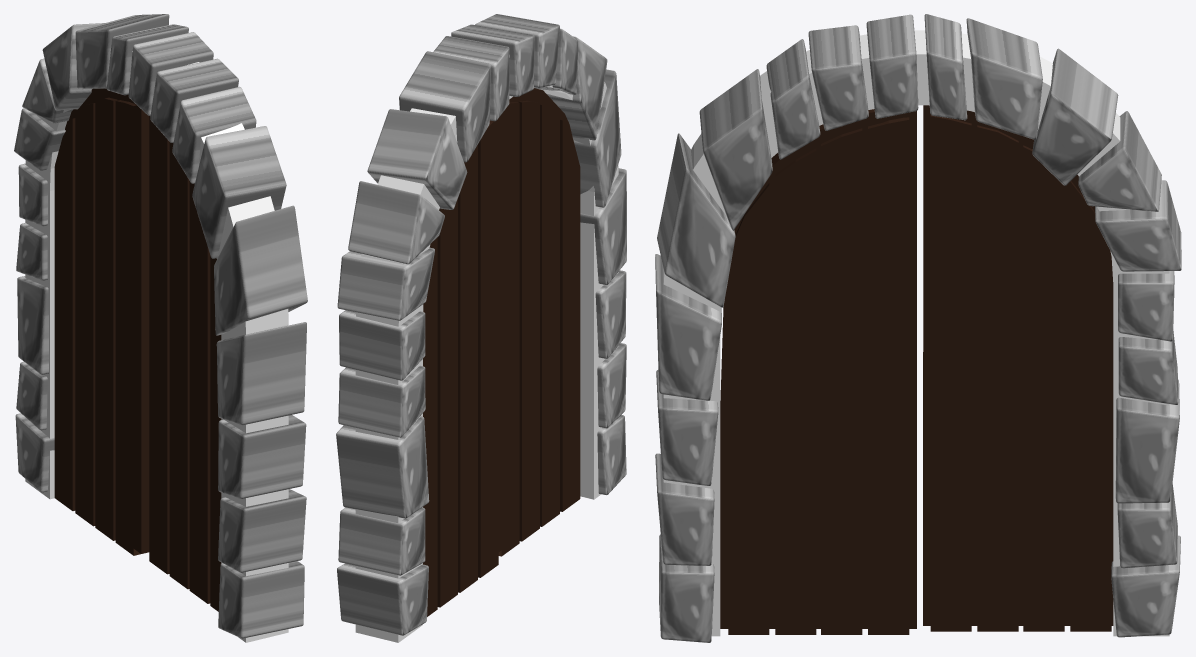
The model's file is Porta fia da puta com animação.glb.
3 views of the same model, side by side, from view 1: azimuth 30°, elevation 25°; view 2: azimuth 150°, elevation 25°; view 3: azimuth 270°, elevation 25° (orthographic). The views are drawn at different scales.
Visible parts, largest first — view 1: Plano, Cubo.001, Cubo.002, Cubo; view 2: Plano, Cubo.002, Cubo.001, Cubo; view 3: Plano, Cubo.002, Cubo.001, Cubo.
Part boxes in pixels (bbox=[...]): Plano: bbox=[14, 14, 307, 638]; Cubo.001: bbox=[54, 88, 149, 555]; Cubo.002: bbox=[149, 116, 221, 611]; Cubo: bbox=[25, 51, 288, 642]; Plano: bbox=[336, 14, 626, 635]; Cubo.002: bbox=[498, 88, 580, 556]; Cubo.001: bbox=[423, 118, 498, 616]; Cubo: bbox=[355, 55, 618, 642]; Plano: bbox=[655, 14, 1181, 642]; Cubo.002: bbox=[720, 109, 916, 634]; Cubo.001: bbox=[923, 105, 1113, 631]; Cubo: bbox=[663, 30, 1169, 636].
Bounding box in the file's own units: 3.57 × 23.3 × 18.62.
Materials: 4 (3 with a texture image).
